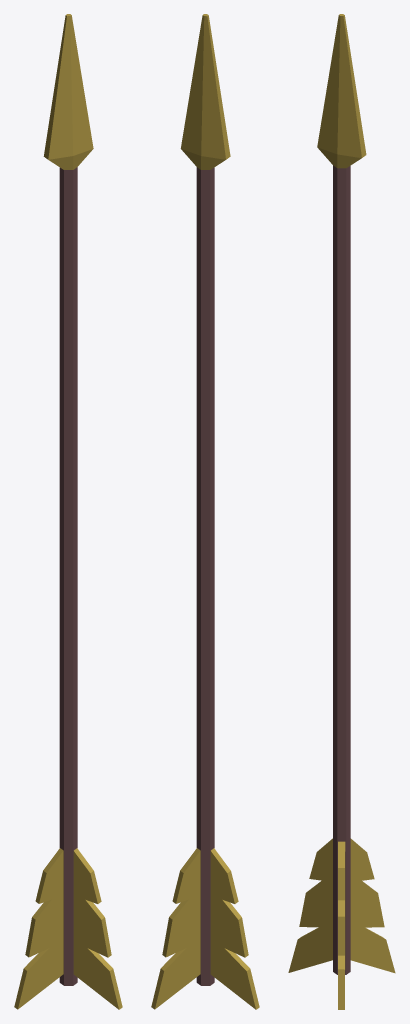
The model's file is Arrow Golden.glb.
The picture shows the model from 3 angles, left to right: view 1: azimuth 30°, elevation 25°; view 2: azimuth 150°, elevation 25°; view 3: azimuth 330°, elevation 25°; orthographic projection.
Parts seen in each view (by area): view 1: Arrow_Golden; view 2: Arrow_Golden; view 3: Arrow_Golden.
Boxes of the visible parts, x1,y1,x2,y2 form: Arrow_Golden: (14,14,122,1009); Arrow_Golden: (151,14,259,1009); Arrow_Golden: (288,14,395,1009).
Bounding box in the file's own units: 0.0508 × 0.5824 × 0.0584.
